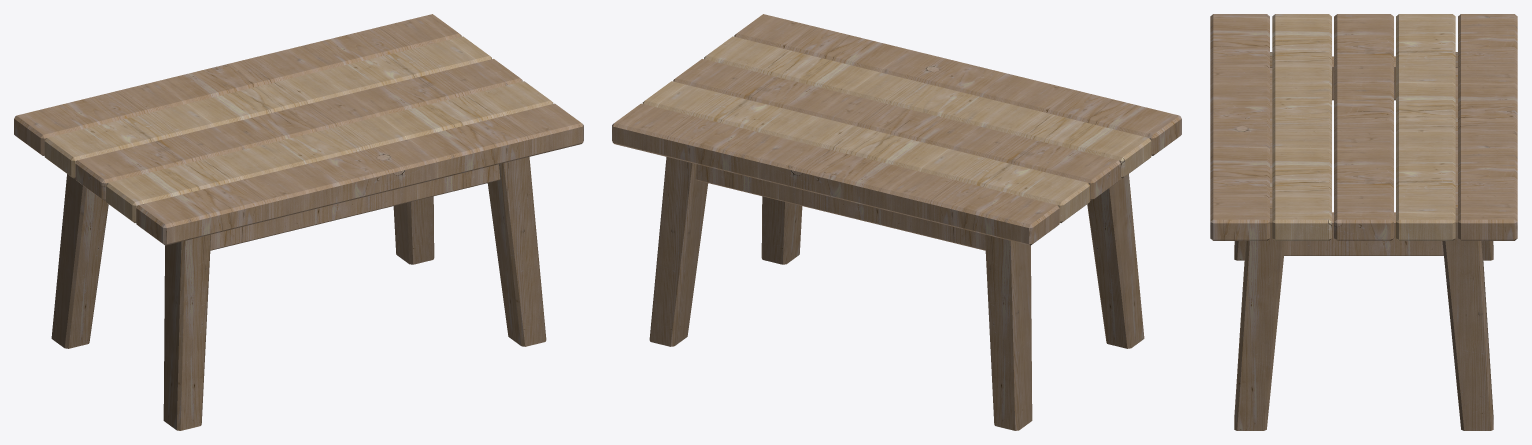
File: build_table.glb
3 renders of one model, left to right at view 1: azimuth 30°, elevation 25°; view 2: azimuth 150°, elevation 25°; view 3: azimuth 270°, elevation 25°, orthographic.
Parts seen in each view (by area): view 1: build_table; view 2: build_table; view 3: build_table.
Part boxes in pixels (x1=…): build_table: x1=14, y1=14, x2=583, y2=430; build_table: x1=612, y1=14, x2=1181, y2=430; build_table: x1=1210, y1=14, x2=1517, y2=430.
Size of the model in its own units: 1.6 by 0.8 by 1.
4 materials, 4 textured.
